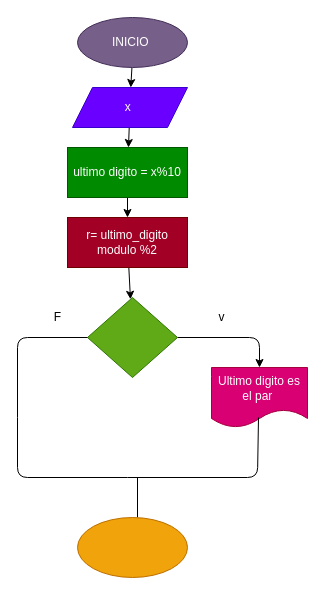
Some shapes in this 325 by 595 pixel diagram are drawn without their labels. The centre of each missing label's shape, as x and y in pixels:
FIN: point 132,547
r == o: point 132,337
